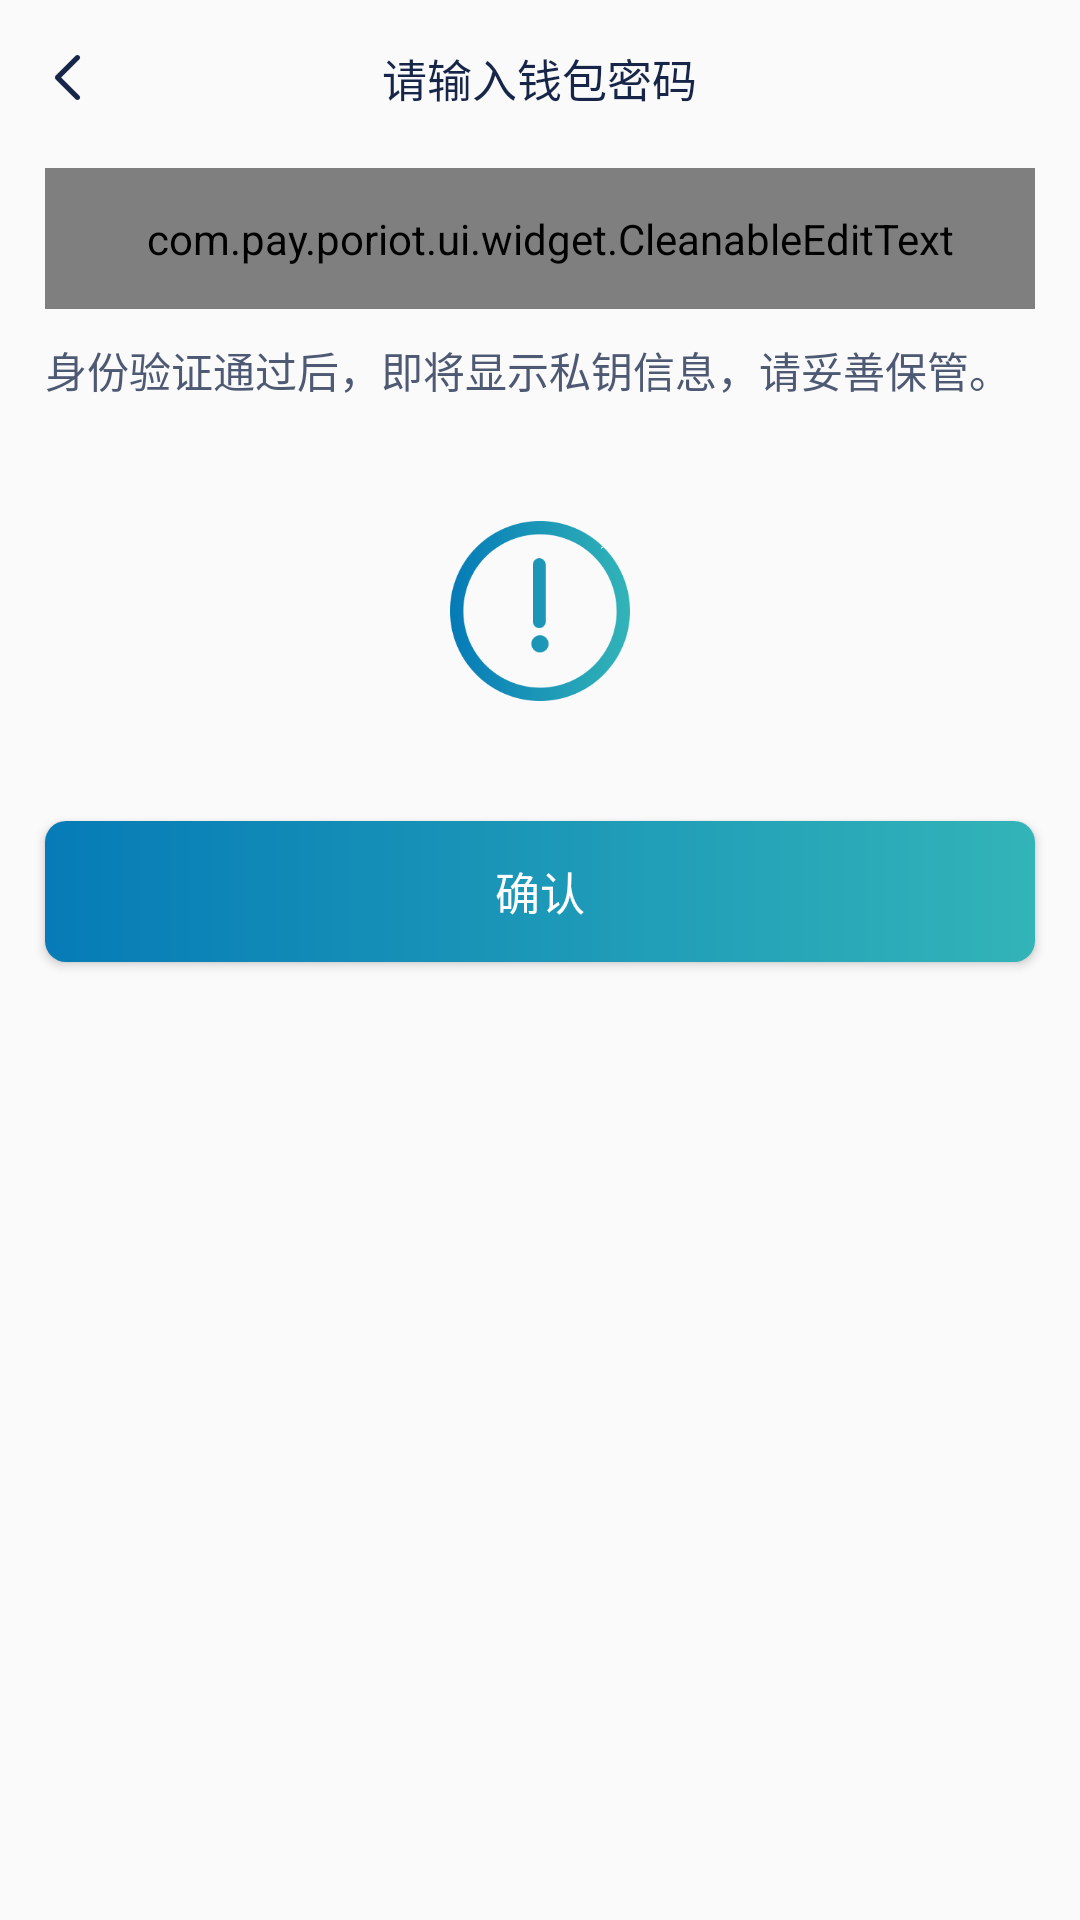

Icon click points for this 1080w x 1920h phone screenshot, format (x=x, y=y):
back: (x=67, y=77)
